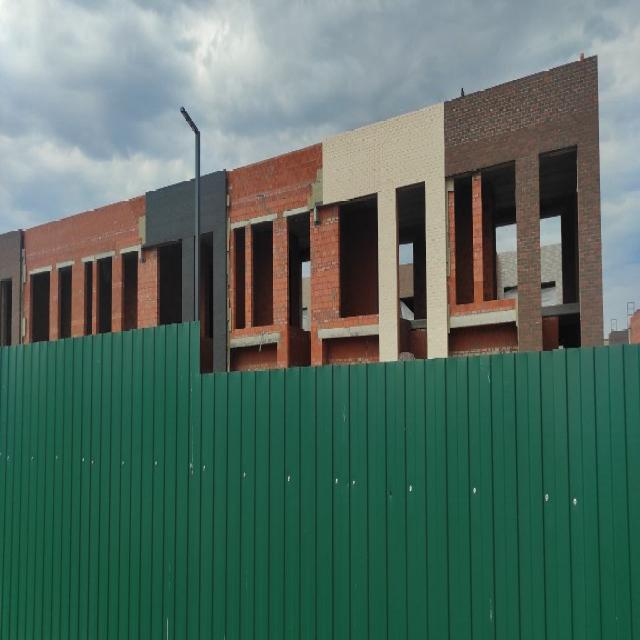Building: (0, 54, 604, 372)
